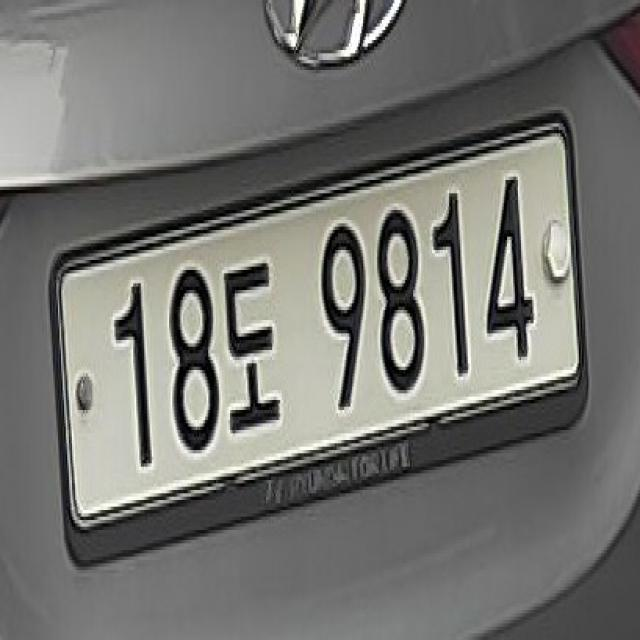1: (430, 164, 479, 394), (111, 260, 160, 487)
4: (484, 153, 543, 380)
8: (161, 240, 222, 467), (369, 183, 427, 397)
9: (316, 204, 371, 424)
do: (224, 237, 289, 440)
license_plate: (47, 93, 588, 577)
